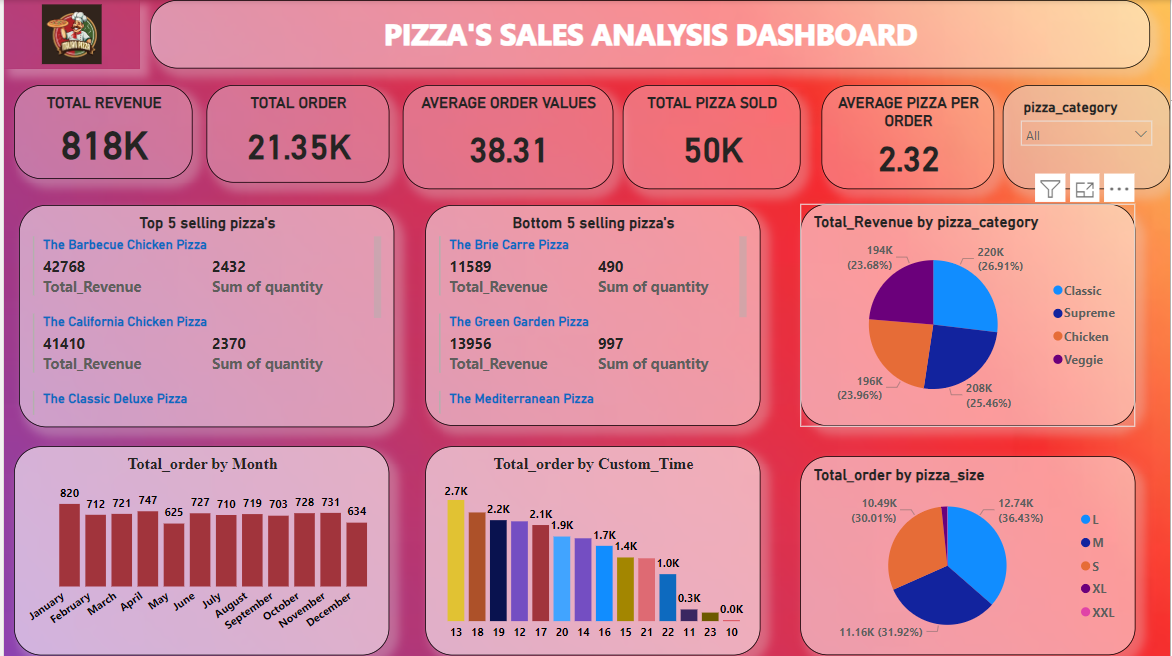

Layout of this report page (visuals, bound fields, positions):
{"tool":"powerbi","page":{"name":"Page 2","canvas":[1280,720],"ordinal":0},"visuals":[{"type":"card","title":"TOTAL REVENUE","fields":{"Values":["pizza_sales (2).Total_Revenue"]},"box":[11.1,93.3,196.3,103],"z":0},{"type":"card","title":"TOTAL ORDER","fields":{"Values":["pizza_sales (2).Total_order"]},"box":[222.8,93.3,200.5,107.2],"z":1000},{"type":"card","title":"AVERAGE ORDER VALUES","fields":{"Values":["pizza_sales (2).Average_order_values"]},"box":[437.2,93.3,231.2,114.2],"z":2000},{"type":"card","title":"TOTAL PIZZA SOLD","fields":{"Values":["pizza_sales (2).Total_pizza_sold"]},"box":[679.5,93.3,195,114.2],"z":3000},{"type":"card","title":"AVERAGE PIZZA PER ORDER","fields":{"Values":["pizza_sales (2).Average_pizzas_per_order"]},"box":[896.8,93.3,189.4,114.2],"z":4000},{"type":"textbox","box":[160.1,0,1097.3,75.2],"z":5000},{"type":"image","box":[0,0,149,75.2],"z":6000},{"type":"slicer","fields":{"Values":["pizza_sales (2).pizza_category"]},"box":[1095.9,93.3,183.8,114.2],"z":7000},{"type":"columnChart","fields":{"Category":["pizza_sales (2).order_date.Variation.Date Hierarchy.Month"],"Y":["pizza_sales (2).Total_order"]},"box":[11.1,490.2,412.2,229.8],"z":8000},{"type":"pieChart","fields":{"Category":["pizza_sales (2).pizza_category"],"Y":["pizza_sales (2).Total_Revenue"]},"box":[874.5,224.2,367.6,243.7],"z":9000},{"type":"multiRowCard","title":"Bottom 5 selling pizza''s","fields":{"Values":["pizza_sales (2).pizza_name","pizza_sales (2).Total_Revenue","Sum(pizza_sales (2).quantity)"]},"box":[462.3,225.6,367.6,242.3],"z":10000},{"type":"multiRowCard","title":"Top 5 selling pizza''s","fields":{"Values":["pizza_sales (2).pizza_name","pizza_sales (2).Total_Revenue","Sum(pizza_sales (2).quantity)"]},"box":[16.7,225.6,412.2,243.7],"z":11000},{"type":"pieChart","fields":{"Category":["pizza_sales (2).pizza_size"],"Y":["pizza_sales (2).Total_order"]},"box":[874.5,501.3,367.6,218.6],"z":12000},{"type":"columnChart","fields":{"Category":["pizza_sales (2).Custom_Time"],"Y":["pizza_sales (2).Total_order"]},"box":[462.3,490.2,367.6,229.8],"z":13000}]}

Visuals, with their boxes in screenshot pixels (x1, y1, x2, y2), scaled from the page's 1280x720 canvas onto the 1172x656 screenshot:
"TOTAL REVENUE" card: locate(10, 85, 190, 179)
"TOTAL ORDER" card: locate(204, 85, 388, 183)
"AVERAGE ORDER VALUES" card: locate(400, 85, 612, 189)
"TOTAL PIZZA SOLD" card: locate(622, 85, 801, 189)
"AVERAGE PIZZA PER ORDER" card: locate(821, 85, 995, 189)
textbox: locate(147, 0, 1151, 69)
image: locate(0, 0, 136, 69)
slicer - pizza_sales (2).pizza_category: locate(1003, 85, 1171, 189)
columnChart - pizza_sales (2).order_date.Variation.Date Hierarchy.Month x pizza_sales (2).Total_order: locate(10, 447, 388, 655)
pieChart - pizza_sales (2).pizza_category x pizza_sales (2).Total_Revenue: locate(801, 204, 1137, 426)
"Bottom 5 selling pizza''s" multiRowCard: locate(423, 206, 760, 426)
"Top 5 selling pizza''s" multiRowCard: locate(15, 206, 393, 428)
pieChart - pizza_sales (2).pizza_size x pizza_sales (2).Total_order: locate(801, 457, 1137, 655)
columnChart - pizza_sales (2).Custom_Time x pizza_sales (2).Total_order: locate(423, 447, 760, 655)
